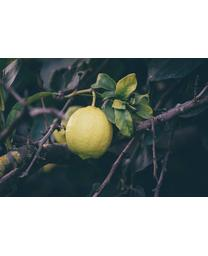lemon: (64, 106, 114, 162)
